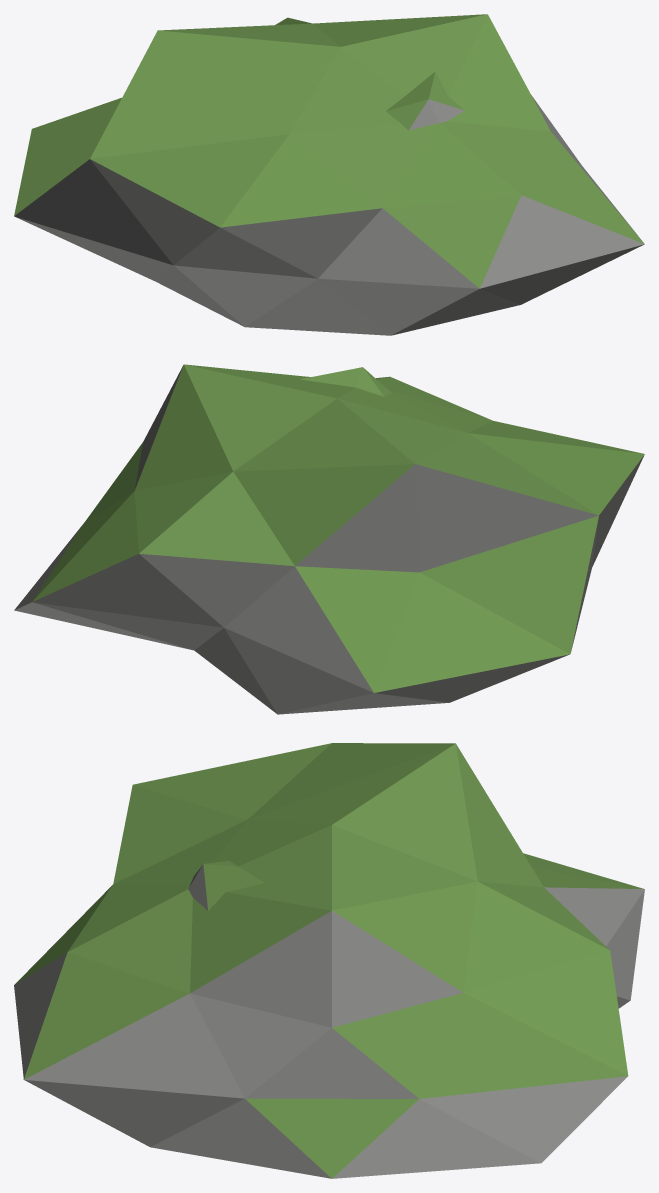
File: rocks.fbx
3 views of the same model, one above another, from view 1: azimuth 30°, elevation 25°; view 2: azimuth 150°, elevation 25°; view 3: azimuth 270°, elevation 25° (orthographic). The views are drawn at different scales.
Parts seen in each view (by area): view 1: Rock2_Moss, Rock2_Grey, Rock1_Moss, Rock1_Grey; view 2: Rock2_Moss, Rock2_Grey, Rock1_Moss; view 3: Rock2_Moss, Rock2_Grey, Rock1_Moss.
Part boxes in pixels (x1,y1,x2,y2): Rock2_Moss: (14,14,644,288); Rock2_Grey: (14,95,644,335); Rock1_Moss: (386,71,463,130); Rock1_Grey: (409,99,464,130); Rock2_Moss: (32,364,644,692); Rock2_Grey: (14,365,644,714); Rock1_Moss: (300,367,391,396); Rock2_Moss: (14,743,643,1178); Rock2_Grey: (14,887,644,1178); Rock1_Moss: (203,860,264,910).
Size of the model in its own units: 5.12 by 1.86 by 4.69.
